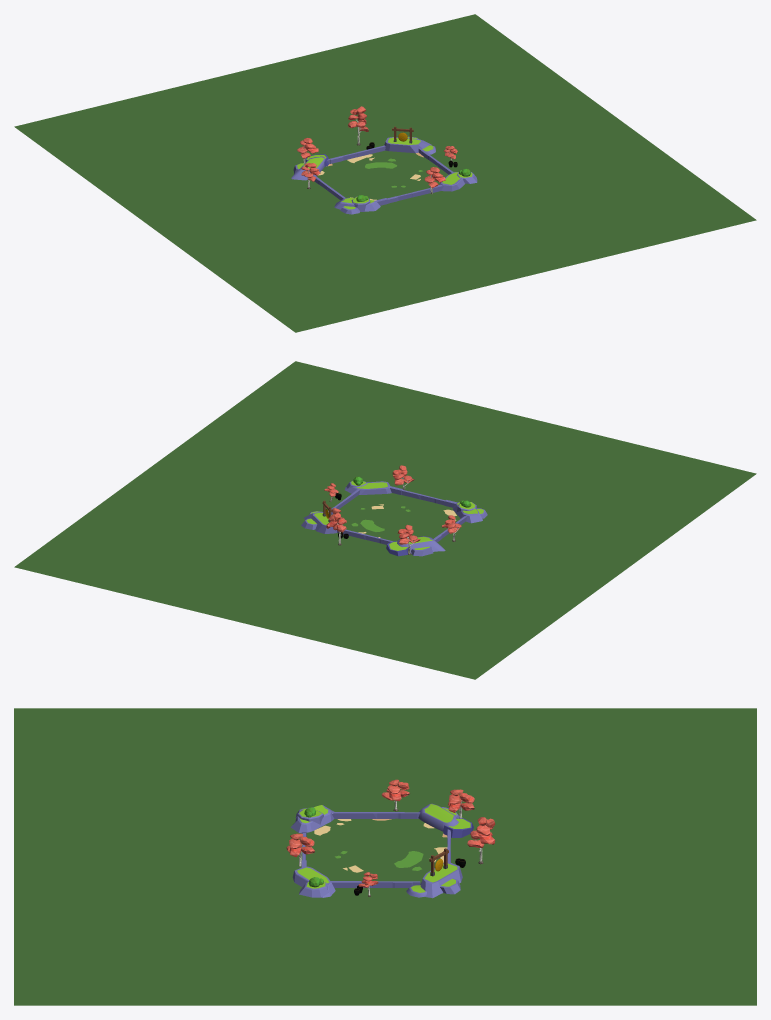
The model's file is _SilkyWoods_map game.fbx.
3 views of the same model, one above another, from view 1: azimuth 30°, elevation 25°; view 2: azimuth 150°, elevation 25°; view 3: azimuth 270°, elevation 25° (orthographic). The views are drawn at different scales.
Parts seen in each view (by area): view 1: san nha; view 2: san nha; view 3: san nha.
Part boxes in pixels (<box>): san nha: <box>14,14,756,332</box>; san nha: <box>14,361,756,679</box>; san nha: <box>14,708,756,1005</box>.
Bounding box in the file's own units: 19689 × 1585 × 20809.
5 materials, 5 textured.
